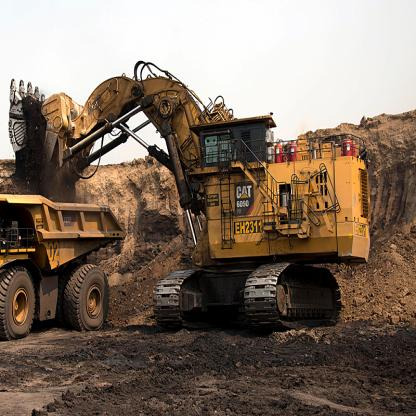dump_truck: (2, 188, 129, 344)
excavator: (8, 73, 404, 361)
